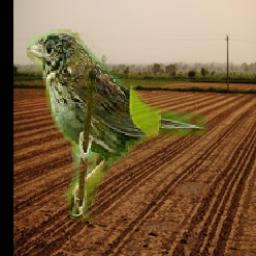Sparrow: (28, 30, 209, 223)
